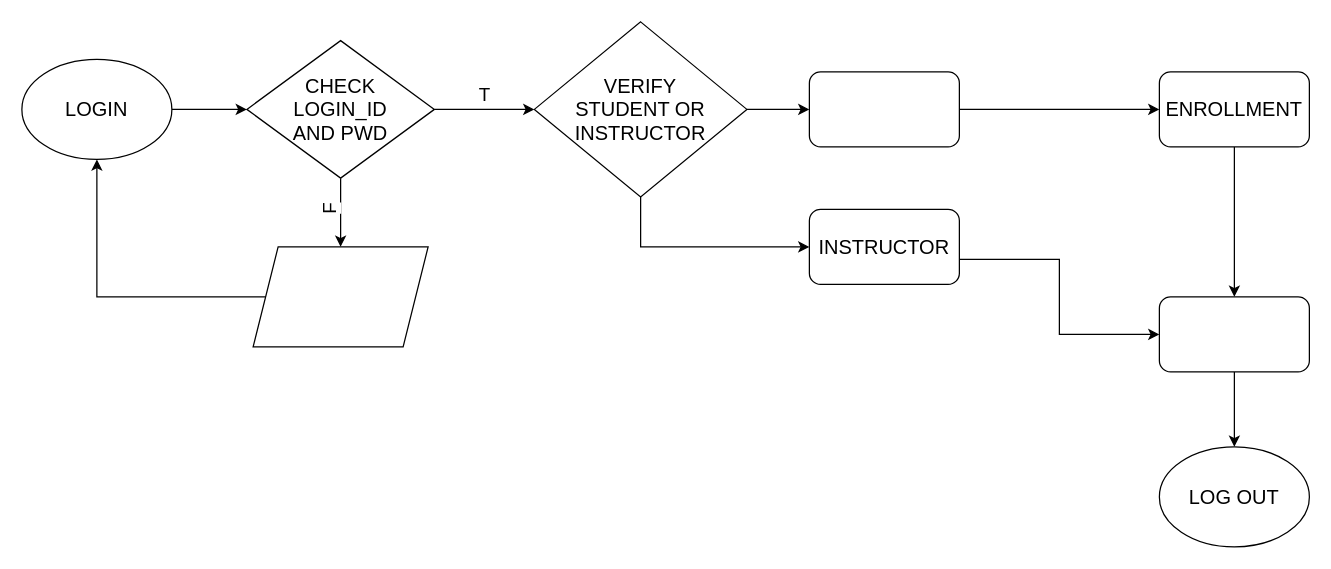
Image size: 1331x569. Some labels were removed from this diagram. Each missing label, with the centre of its shape:
"COURSE" goes at point (1233, 334).
"INVALID ID or PWD" goes at point (340, 296).
"STUDENT" goes at point (883, 109).
